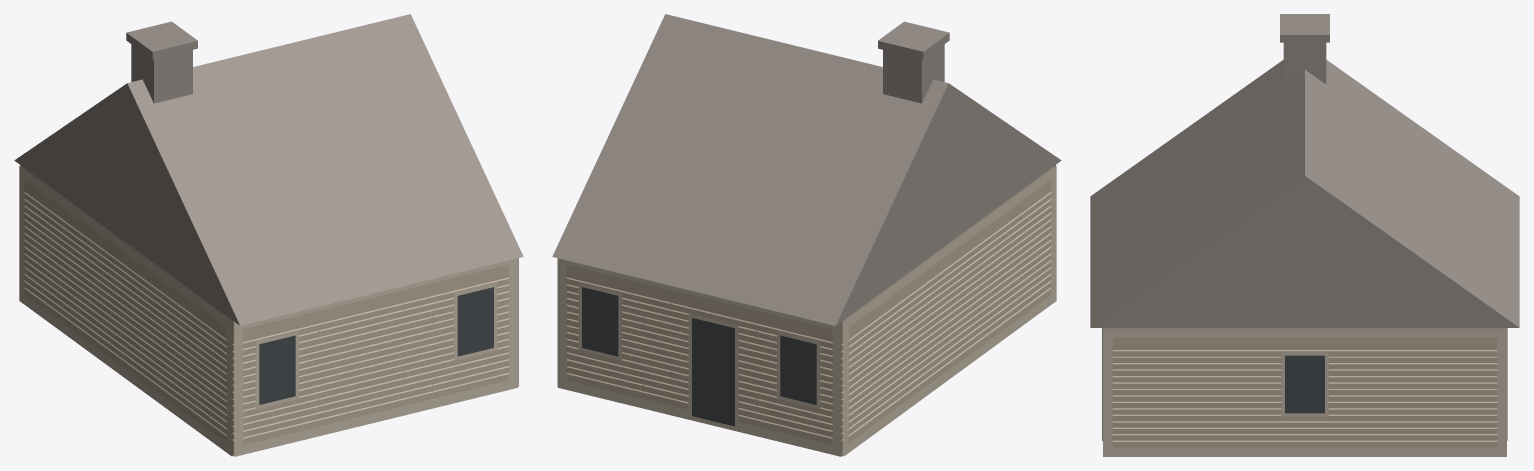
File: recon_1835_north_d4_012__inferred_1835.glb
The picture shows the model from 3 angles, left to right: view 1: azimuth 30°, elevation 25°; view 2: azimuth 150°, elevation 25°; view 3: azimuth 270°, elevation 25°; orthographic projection. The views are drawn at different scales.
Visible parts, largest first — view 1: recon_1835_north_d4_012__inferred_1835; view 2: recon_1835_north_d4_012__inferred_1835; view 3: recon_1835_north_d4_012__inferred_1835.
Boxes of the visible parts, x1=… form: recon_1835_north_d4_012__inferred_1835: x1=14, y1=14, x2=523, y2=456; recon_1835_north_d4_012__inferred_1835: x1=552, y1=14, x2=1061, y2=456; recon_1835_north_d4_012__inferred_1835: x1=1090, y1=14, x2=1519, y2=456.
Size of the model in its own units: 6.18 by 6.85 by 8.43.
